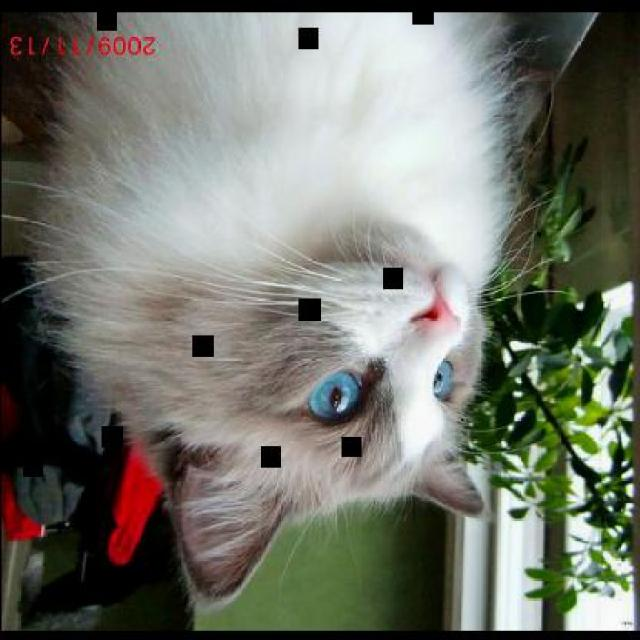unauthorized: (0, 6, 565, 619)
